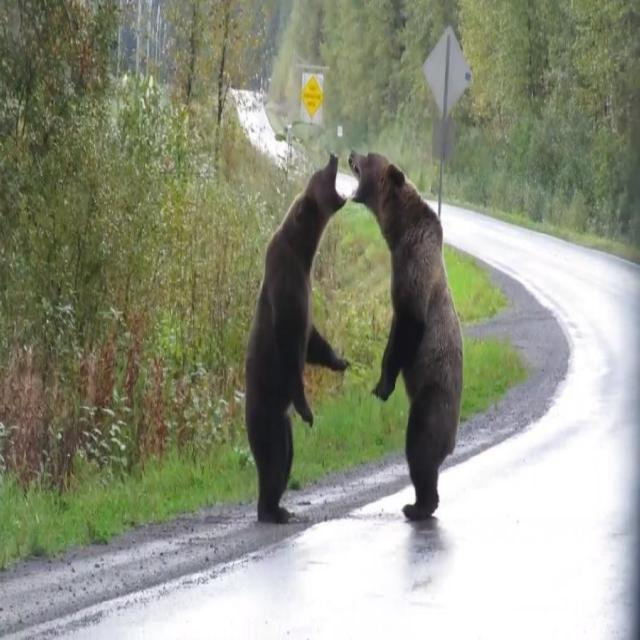Bear: (348, 153, 463, 522), (245, 156, 349, 525)
